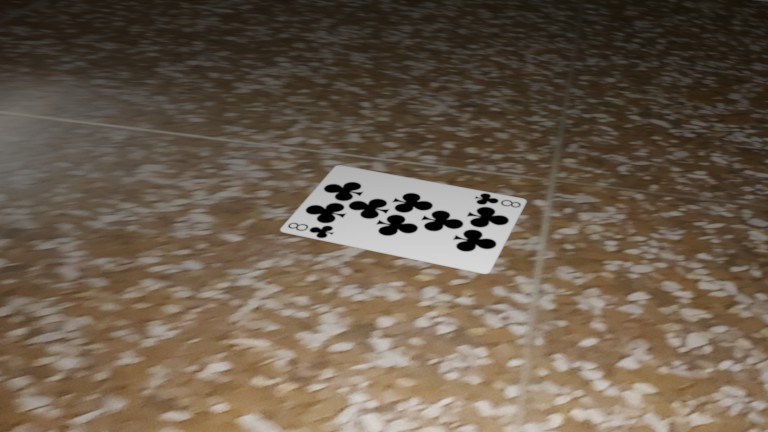8_of_clubs: (282, 218, 339, 241), (470, 191, 524, 212)
